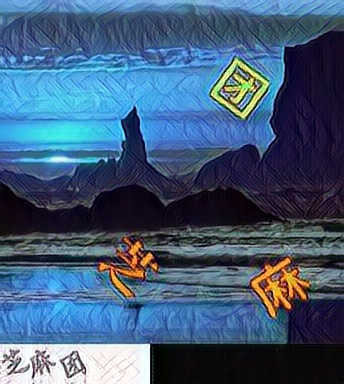C2E9: (247, 253, 311, 320)
CDC5: (208, 55, 272, 122)
D6A5: (95, 233, 159, 300)
